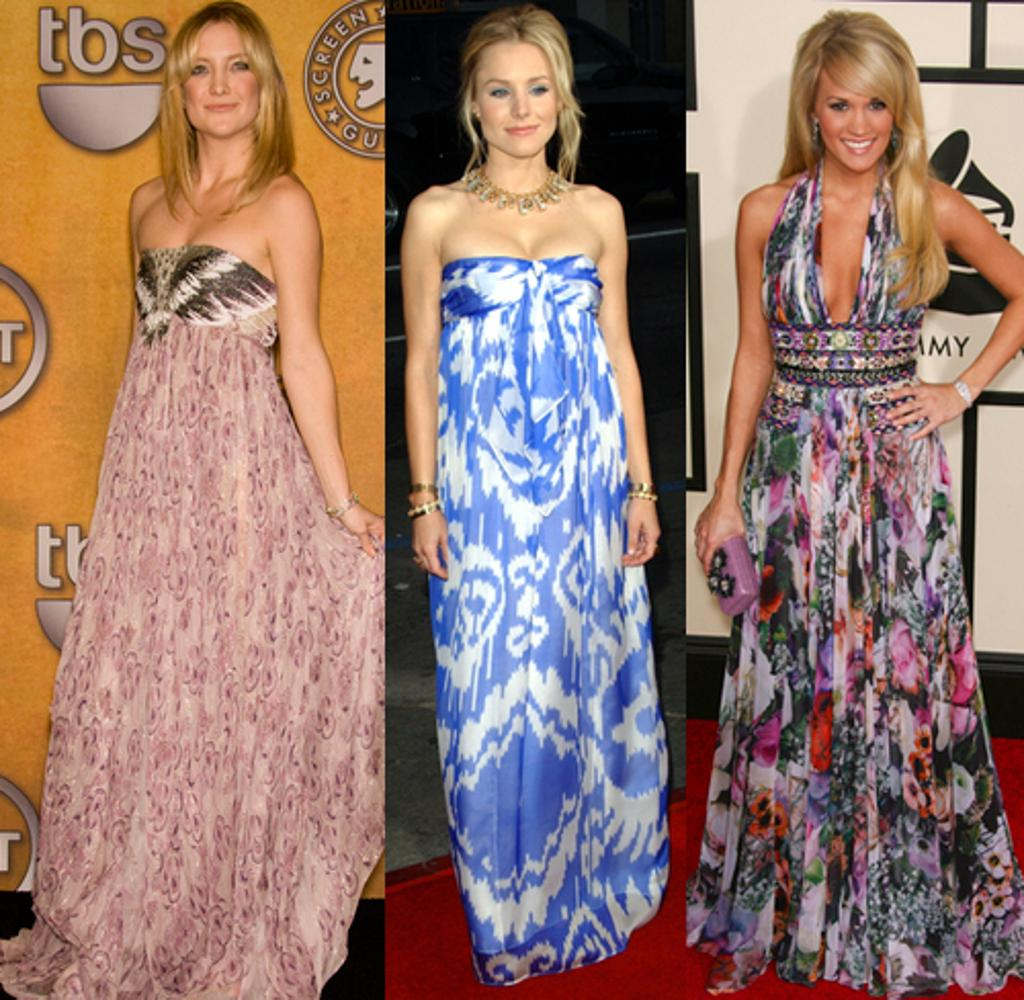face: (474, 36, 558, 156), (818, 52, 898, 172), (182, 24, 262, 136)
